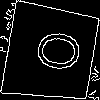O: (25, 27, 83, 74)
